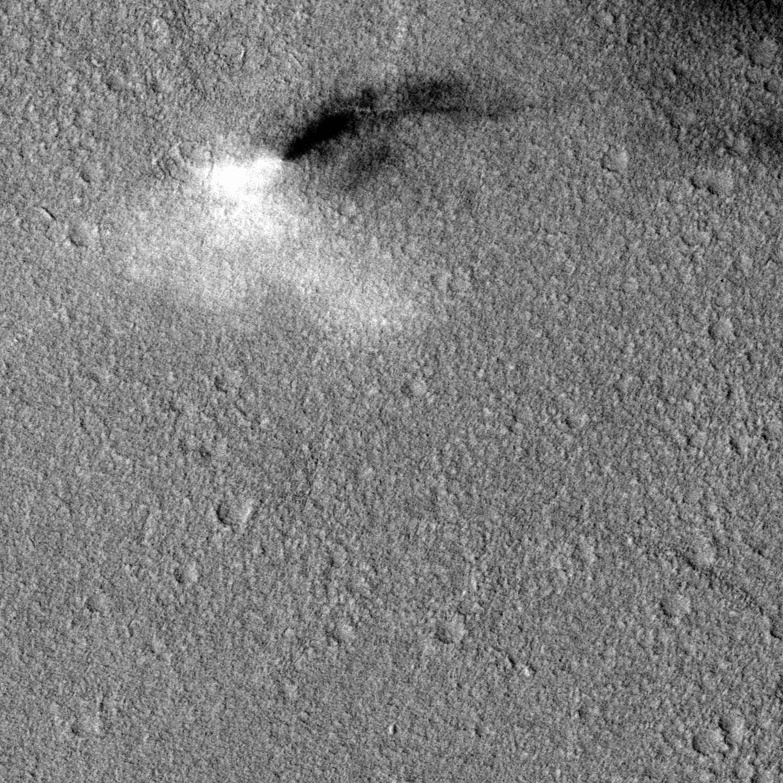dust_devil: (175, 68, 525, 250)
